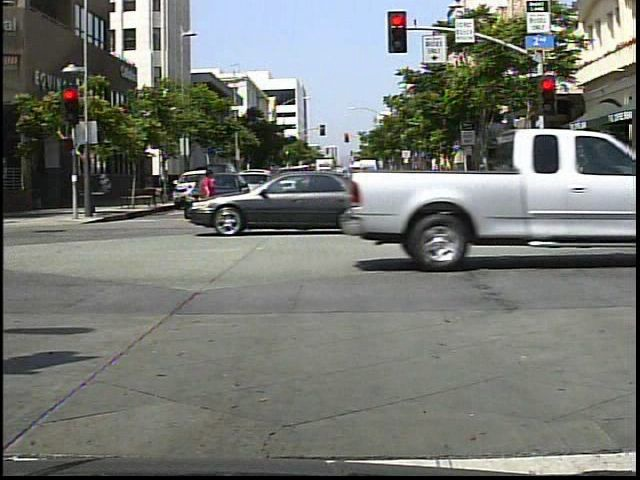person: (354, 163, 389, 233), (406, 162, 437, 226), (568, 157, 590, 207), (191, 166, 214, 211)
